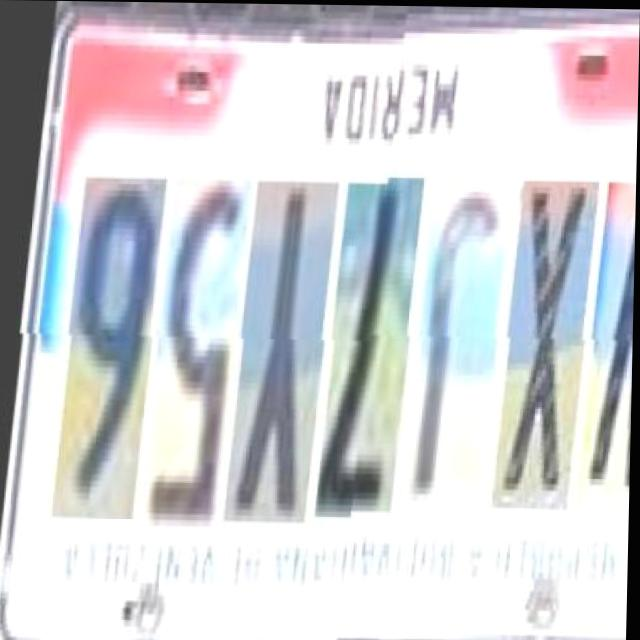5: (138, 173, 244, 521)
6: (49, 171, 161, 514)
7: (312, 176, 415, 512)
j: (399, 177, 504, 513)
v: (572, 180, 637, 509)
x: (486, 179, 592, 509)
y: (220, 174, 332, 517)
